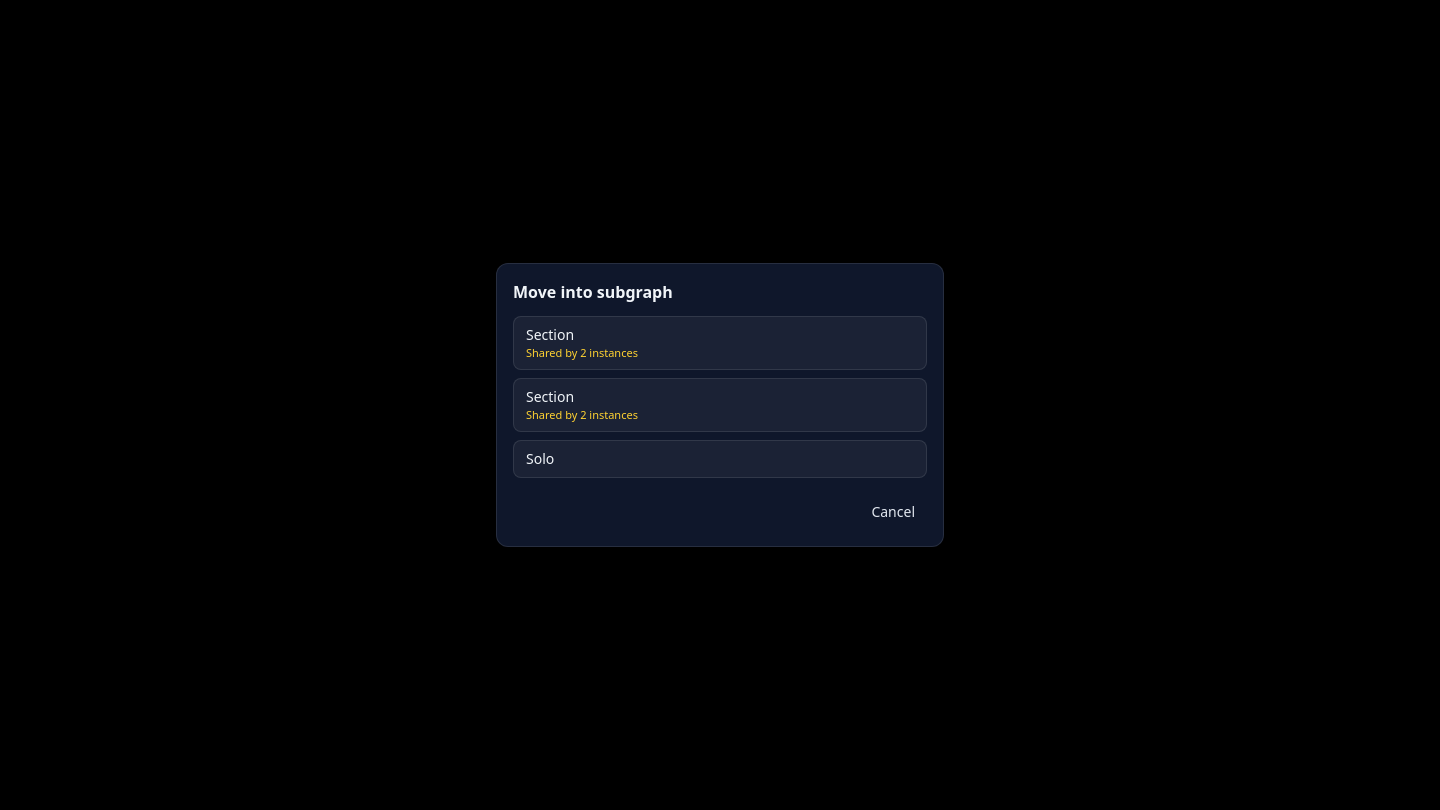
Test: MoveIntoSubgraphModal › warns before changing a shared type, rather than confirming
Click the 1st button "Section Shared by 2 instances": (550, 335) [513,316,927,370]
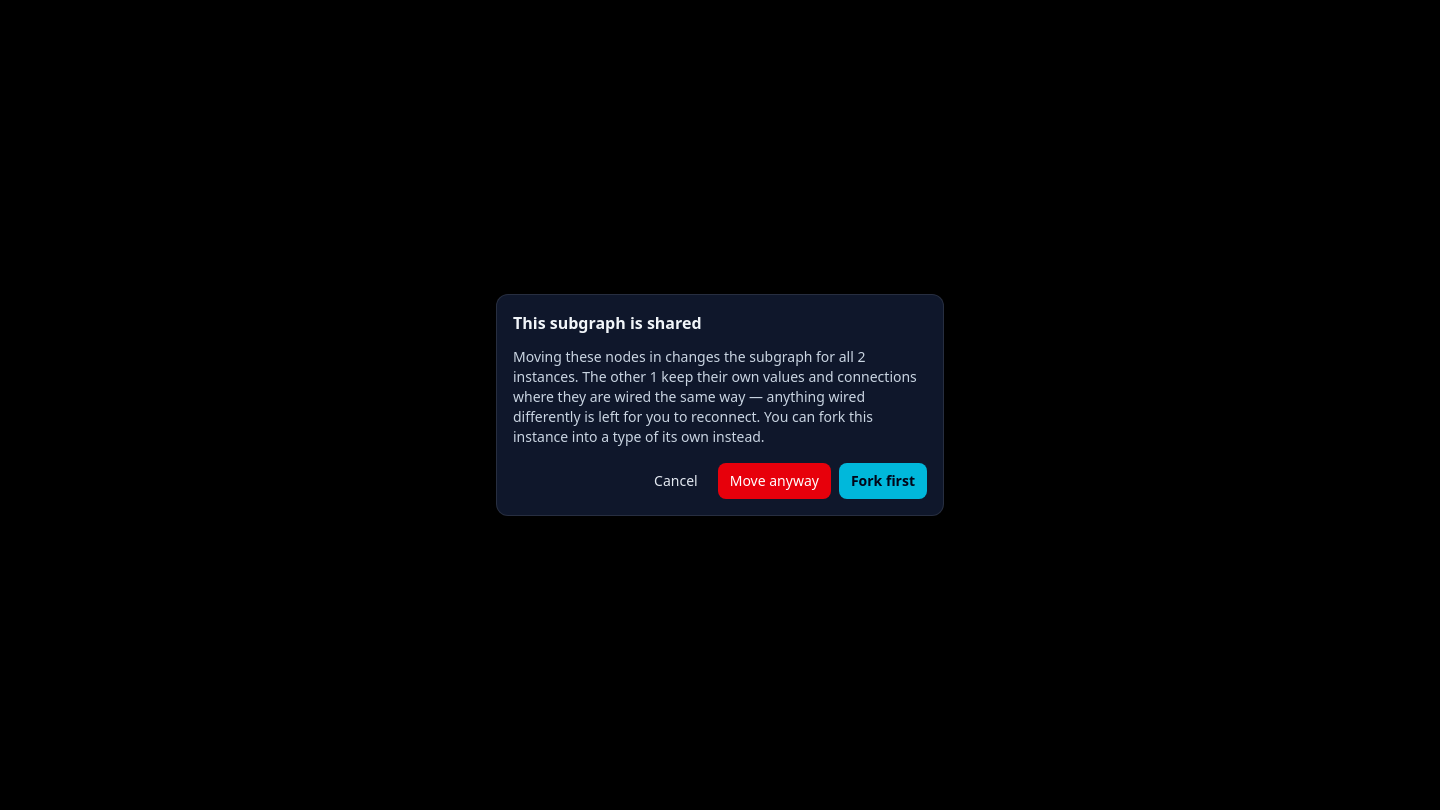
Now the text "This subgraph is shared" is shown, box [513,312,702,334]
Now the button "Fork first" is shown, box [839,463,927,499]
Now the button "Move anyway" is shown, box [718,463,831,499]
